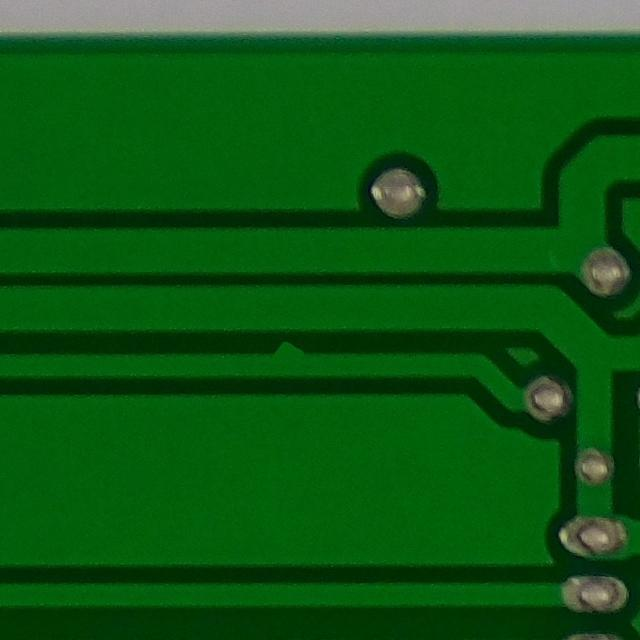spur: (252, 329, 316, 371)
